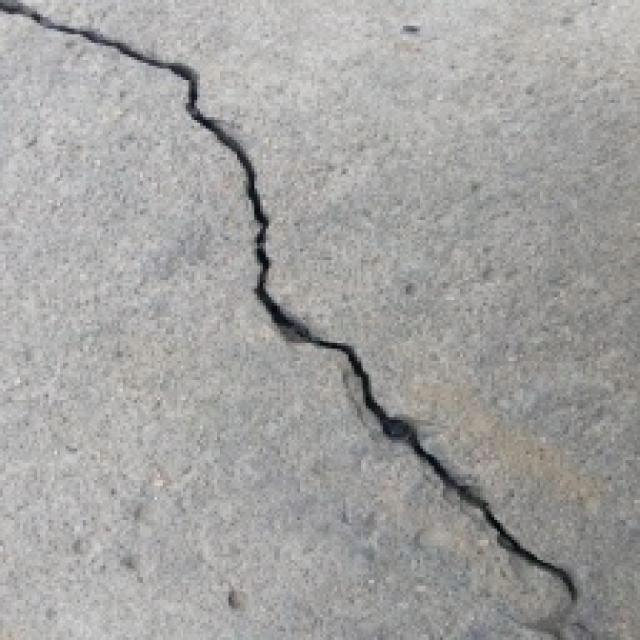SurfaceCrack: (8, 2, 590, 632)
